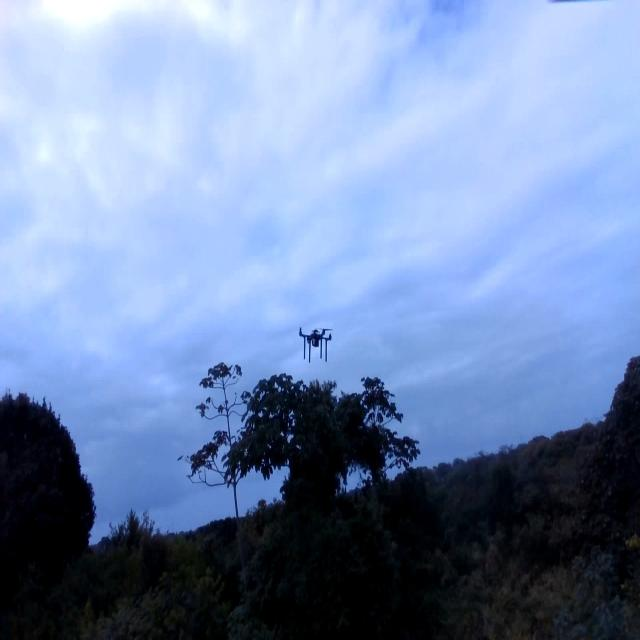-uav-: (292, 314, 338, 375)
